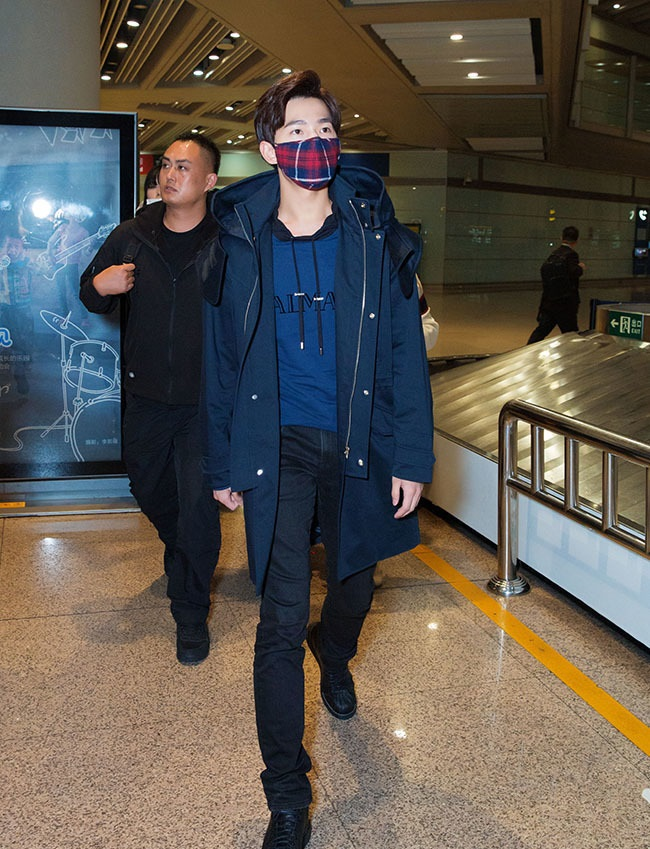face: (158, 141, 203, 205)
face_mask: (277, 97, 334, 194)
